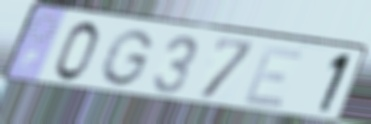0: (53, 20, 103, 82)
1: (315, 52, 355, 118)
3: (152, 34, 199, 95)
7: (196, 36, 259, 103)
E: (239, 45, 308, 111)
G: (96, 27, 158, 89)
